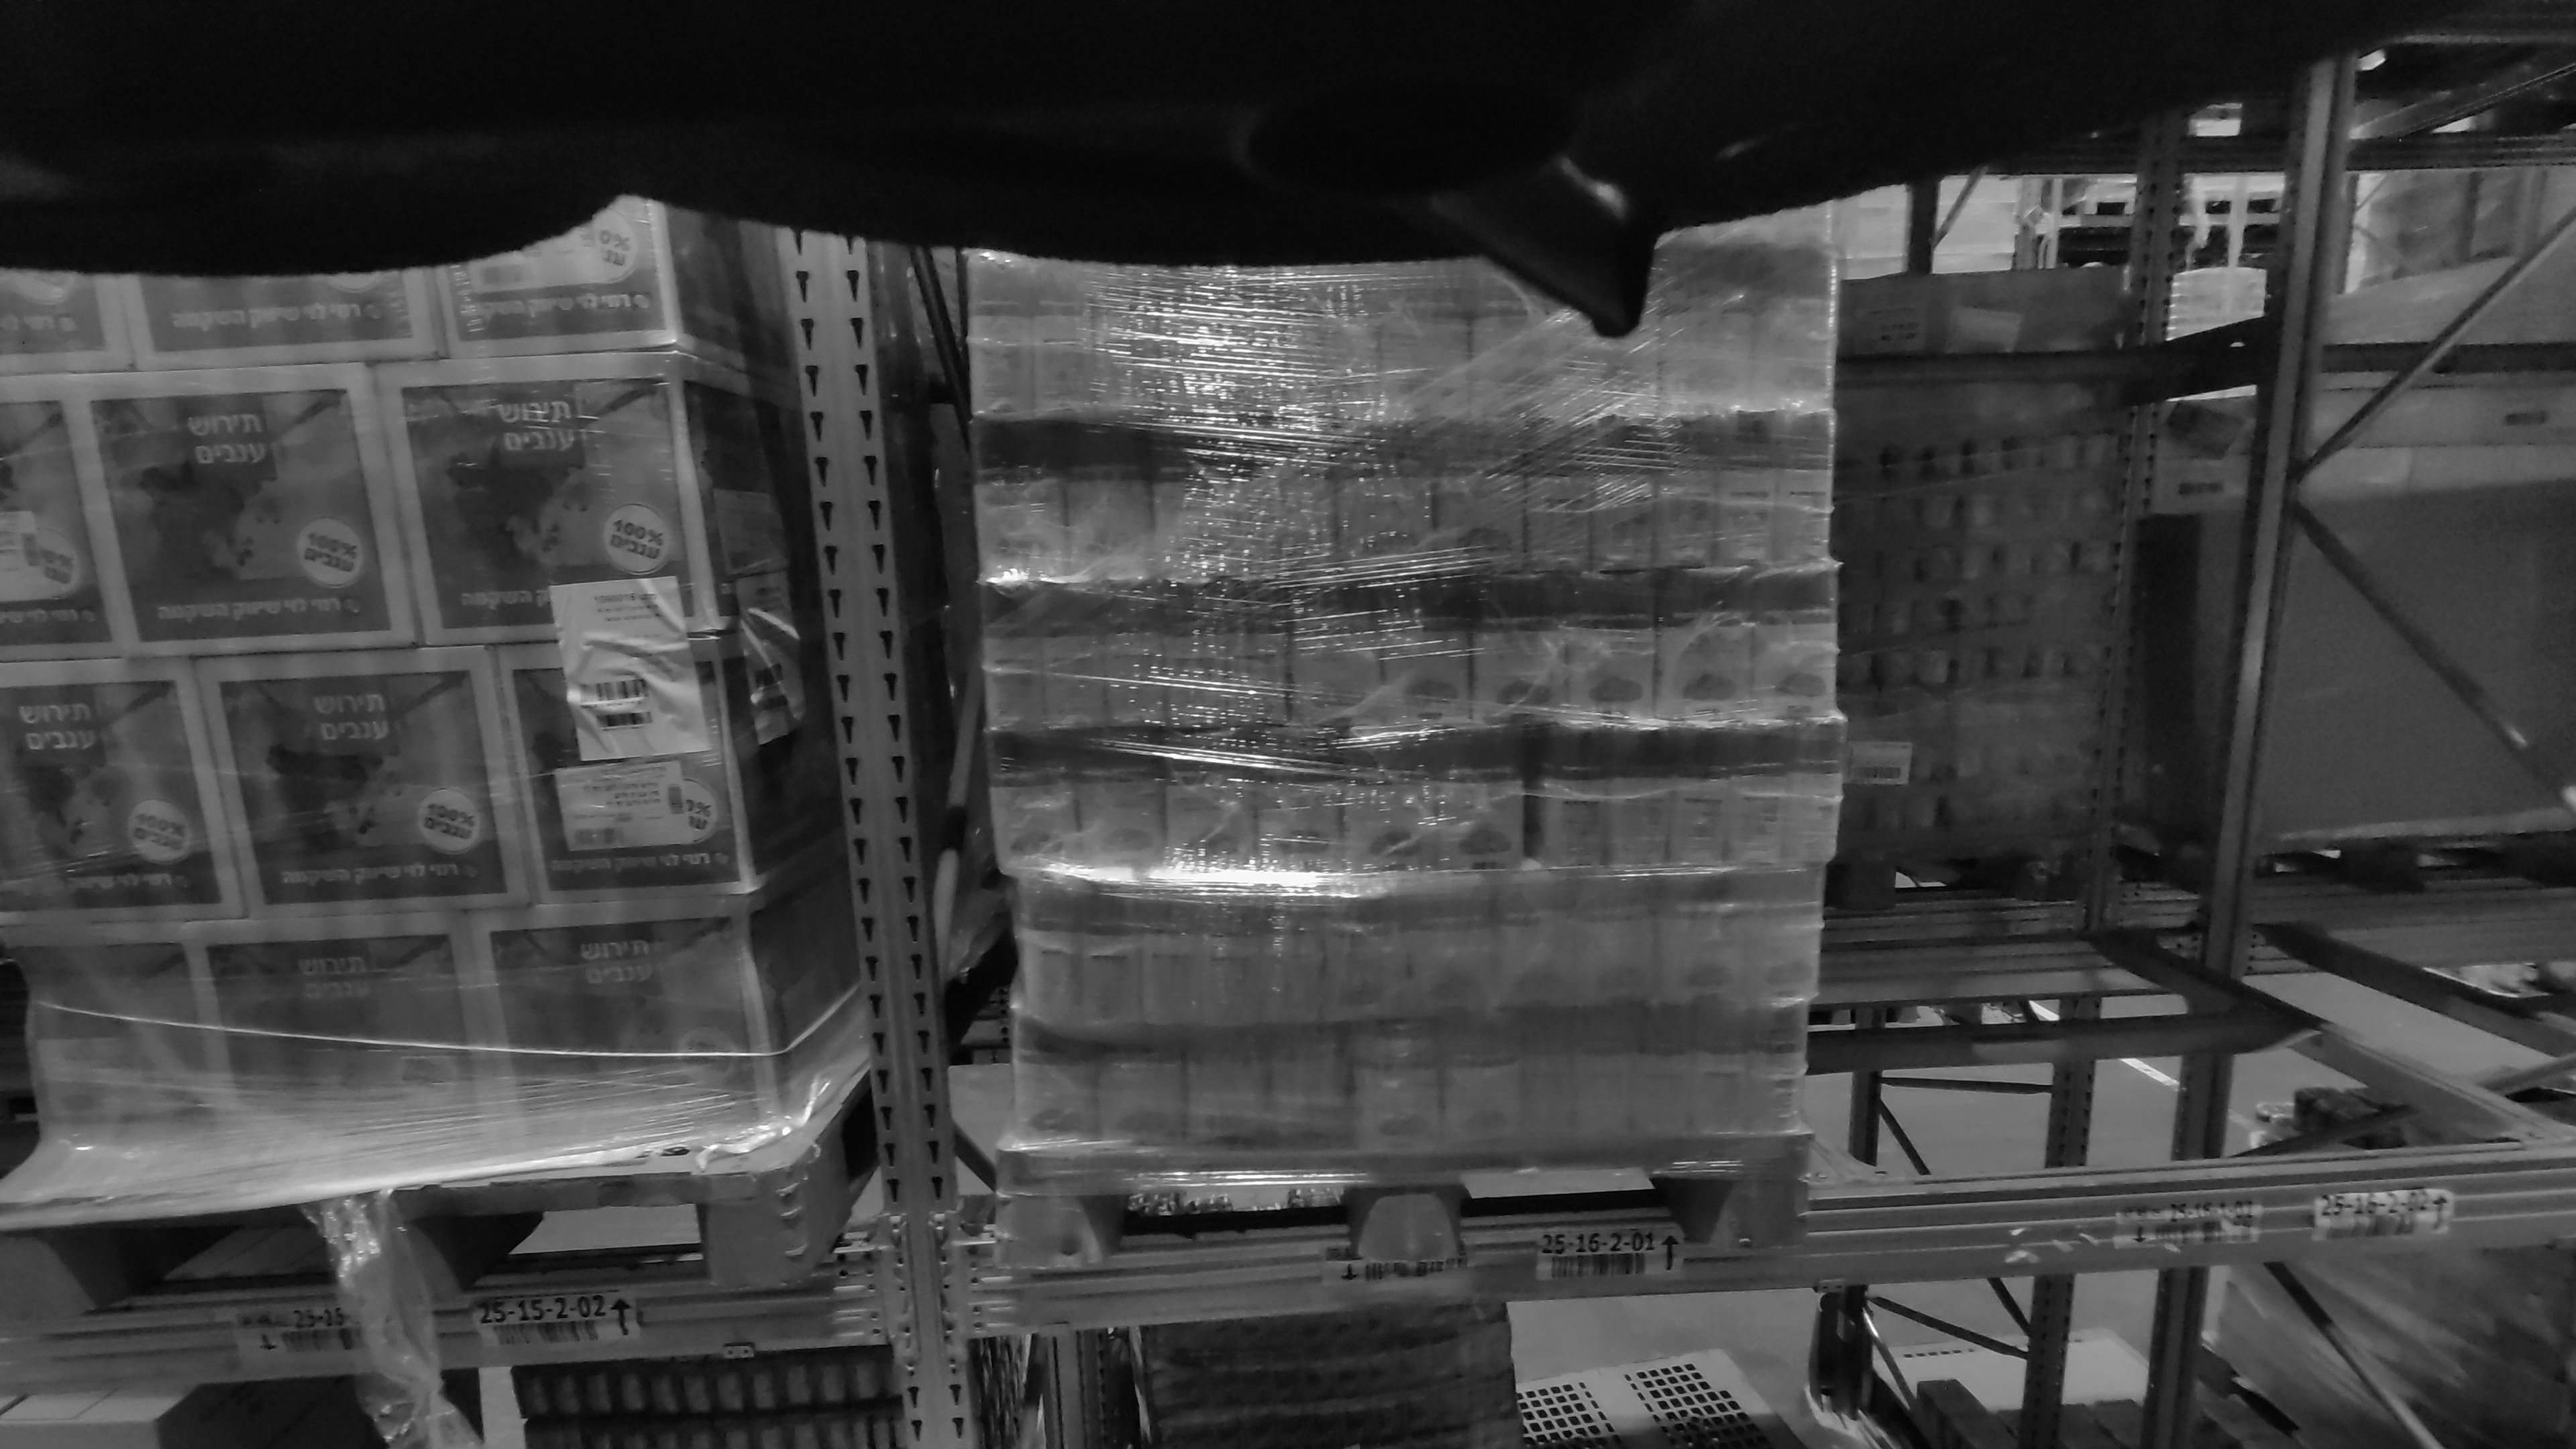empty-shelf: (1888, 92, 2523, 1154)
